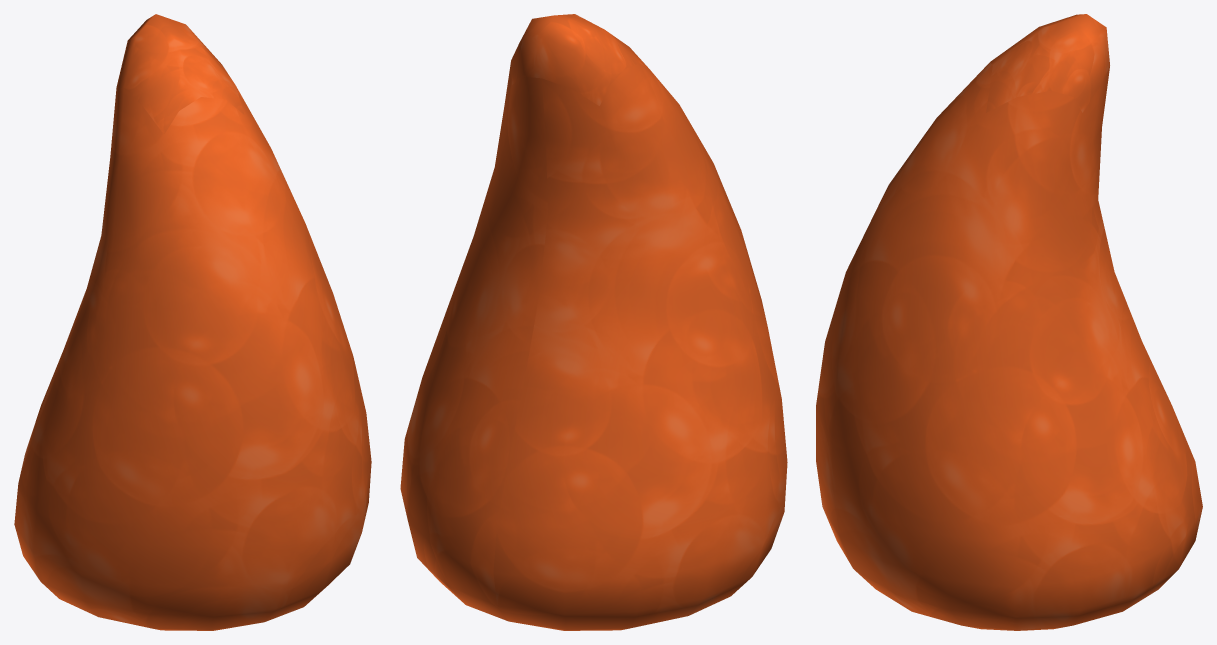
Rendered from Fire_power.fbx.
3 views of the same model, side by side, from view 1: azimuth 30°, elevation 25°; view 2: azimuth 150°, elevation 25°; view 3: azimuth 270°, elevation 25° (orthographic). The views are drawn at different scales.
Parts seen in each view (by area): view 1: pCone1; view 2: pCone1; view 3: pCone1.
Part boxes in pixels (x1=…): pCone1: x1=14, y1=14, x2=371, y2=630; pCone1: x1=400, y1=14, x2=787, y2=630; pCone1: x1=816, y1=14, x2=1202, y2=630.
Bounding box in the file's own units: 1.78 × 3.01 × 1.81.
